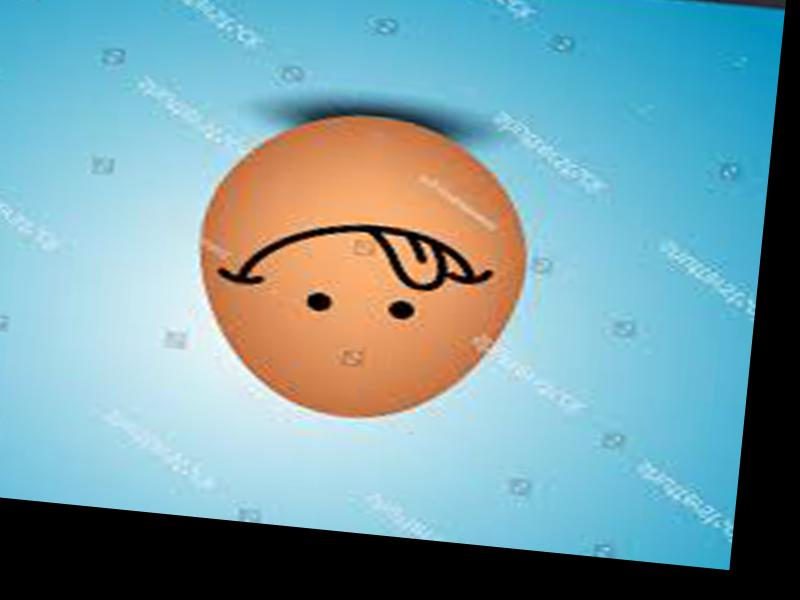Eggs: (183, 99, 540, 433)
